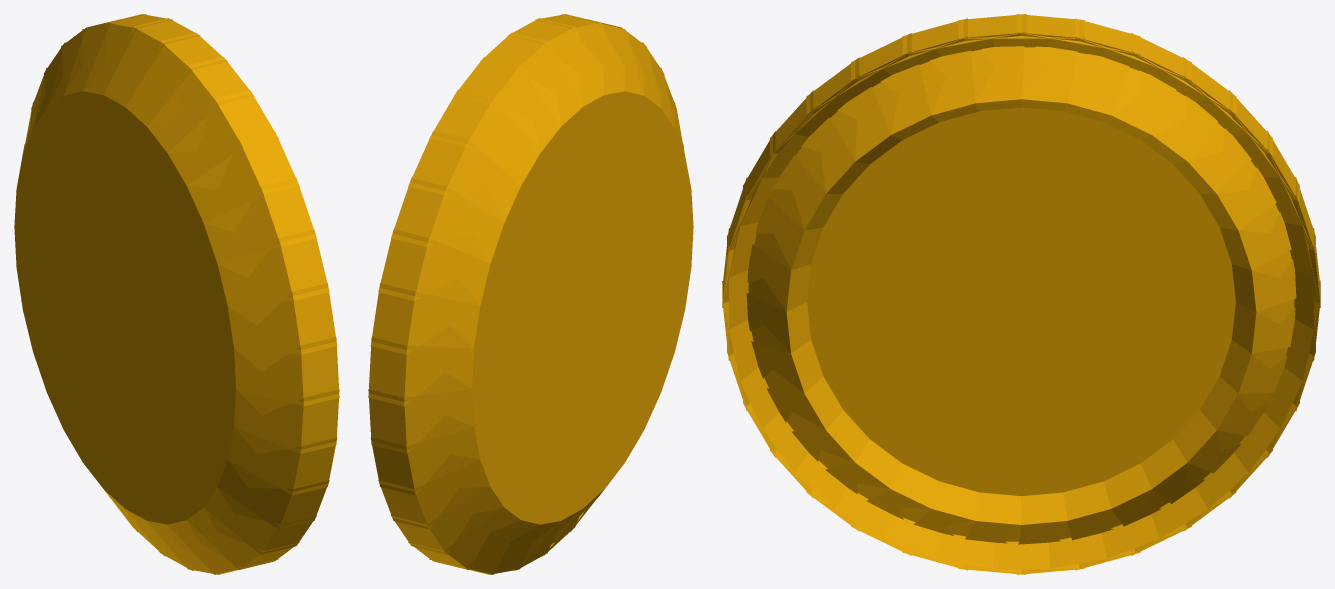
The model's file is coin.fbx.
The picture shows the model from 3 angles, left to right: view 1: azimuth 30°, elevation 25°; view 2: azimuth 150°, elevation 25°; view 3: azimuth 270°, elevation 25°; orthographic projection. The views are drawn at different scales.
Parts seen in each view (by area): view 1: Cylinder; view 2: Cylinder; view 3: Cylinder.
Boxes of the visible parts, box(x1,y1,x2,y2) form: Cylinder: box(14, 14, 339, 574); Cylinder: box(368, 14, 693, 574); Cylinder: box(722, 14, 1320, 574).
Size of the model in its own units: 36.6 by 200 by 200.
